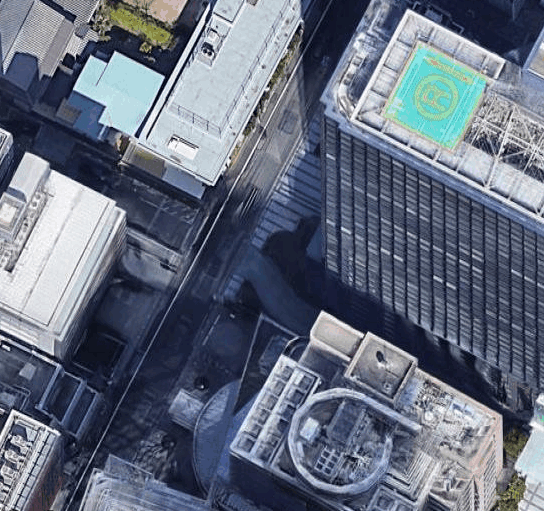facility: (238, 306, 427, 509), (134, 0, 291, 186), (0, 416, 65, 505)
heliport_r: (363, 30, 504, 169)
rooftop: (132, 0, 289, 185), (0, 153, 105, 313)
